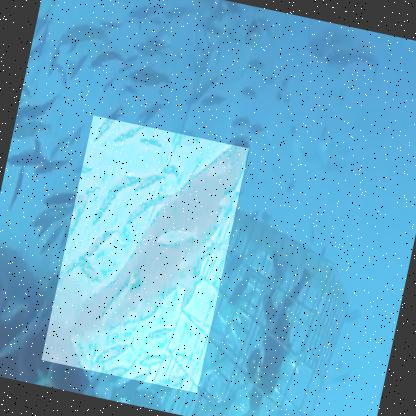white-shark: (40, 112, 249, 392)
